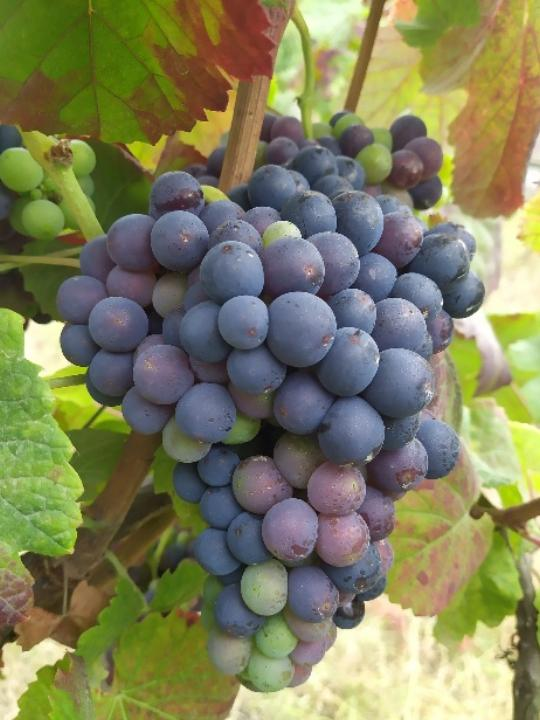grape: (54, 162, 485, 691)
